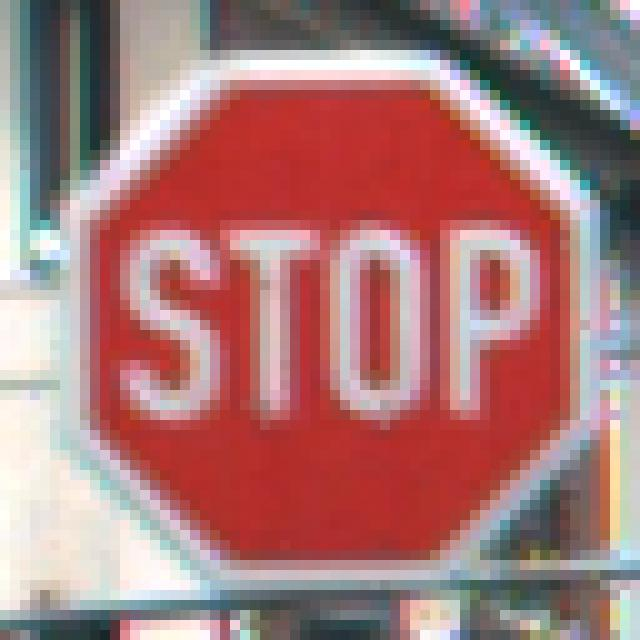STOP: (51, 51, 591, 591)
